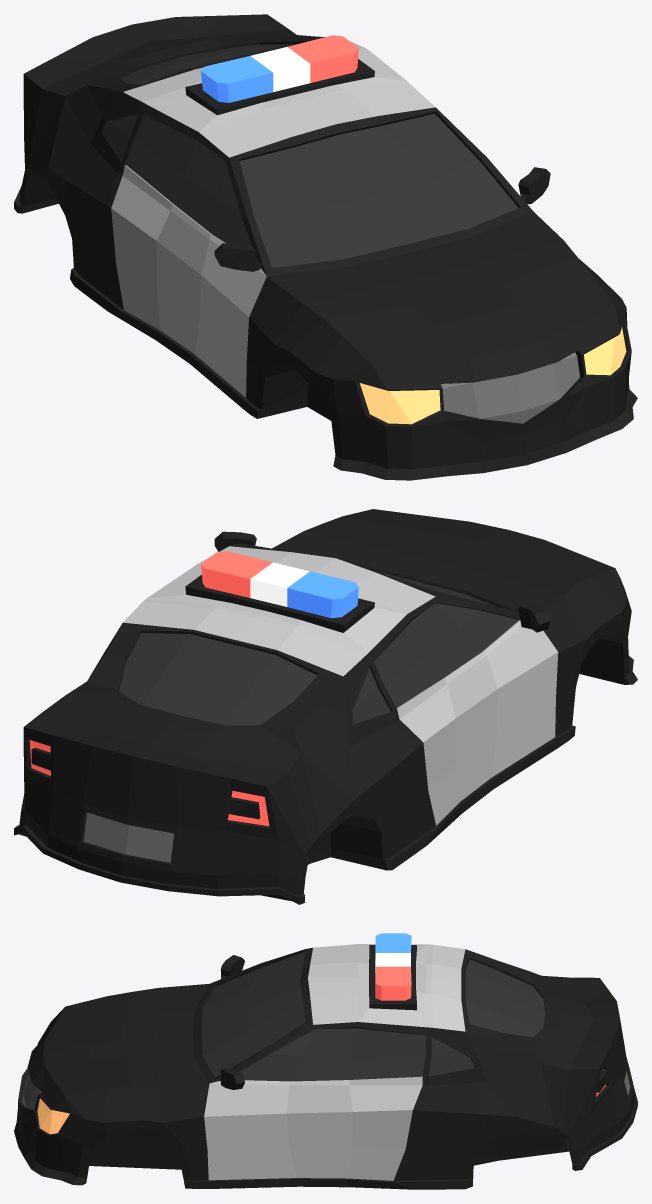
Rendered from police-car.glb.
The picture shows the model from 3 angles, top to bottom: view 1: azimuth 30°, elevation 25°; view 2: azimuth 150°, elevation 25°; view 3: azimuth 270°, elevation 25°; orthographic projection. The views are drawn at different scales.
Parts seen in each view (by area): view 1: police-car; view 2: police-car; view 3: police-car.
Part boxes in pixels (x1,y1,x2,y2): police-car: (14, 14, 637, 480); police-car: (14, 509, 637, 904); police-car: (14, 933, 637, 1189).
Size of the model in its own units: 1.78 by 1.13 by 3.73.
